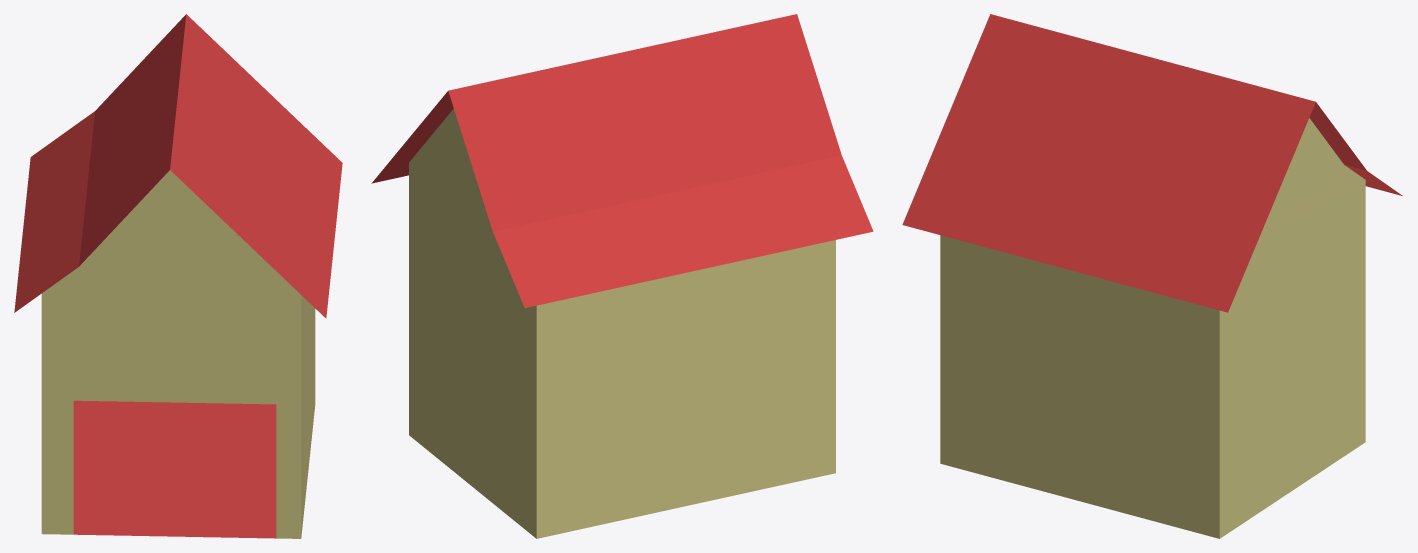
The picture shows the model from 3 angles, left to right: view 1: azimuth 30°, elevation 25°; view 2: azimuth 150°, elevation 25°; view 3: azimuth 270°, elevation 25°; orthographic projection. The views are drawn at different scales.
Size of the model in its own units: 17.6 by 18.27 by 15.88.
